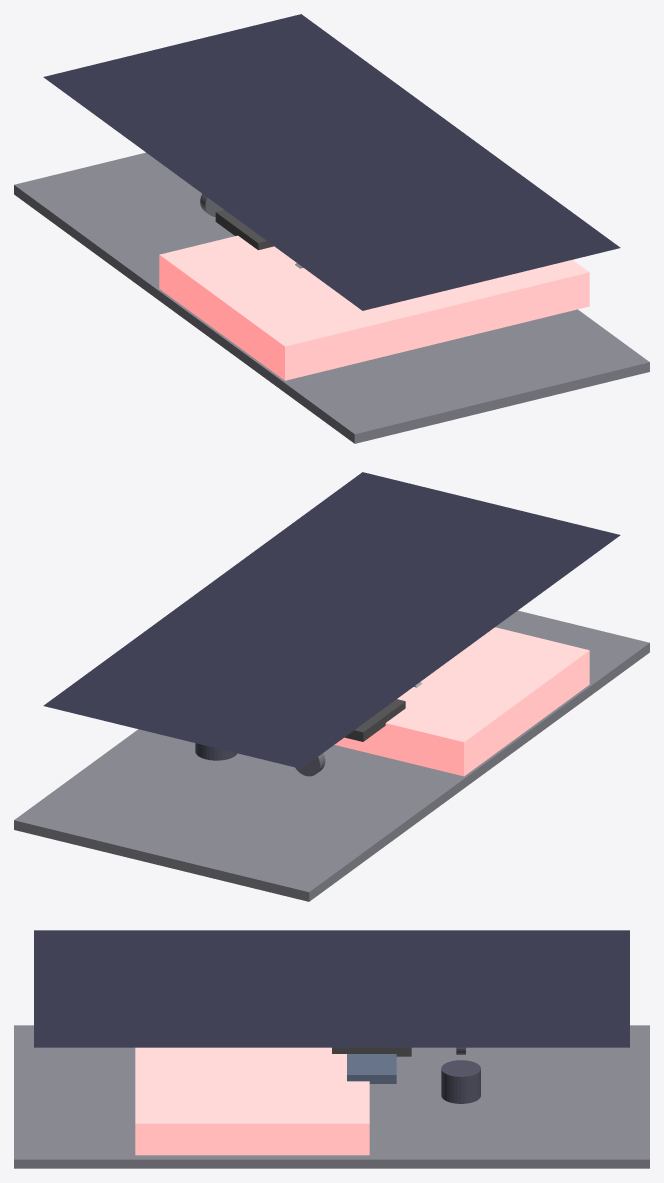
The model's file is tech_smartphone_anatomie_v1.glb.
3 views of the same model, one above another, from view 1: azimuth 30°, elevation 25°; view 2: azimuth 150°, elevation 25°; view 3: azimuth 270°, elevation 25° (orthographic). The views are drawn at different scales.
Visible parts, largest first — view 1: screen, chassis, battery__fault_defaillant, cpu; view 2: screen, chassis, battery__fault_defaillant, cpu; view 3: screen, chassis, battery__fault_defaillant, camera, pmic, cpu.
Part boxes in pixels (x1=…): screen: x1=43, y1=14, x2=620, y2=310; chassis: x1=14, y1=152, x2=649, y2=443; battery__fault_defaillant: x1=159, y1=235, x2=589, y2=380; cpu: x1=215, y1=210, x2=273, y2=250; screen: x1=43, y1=472, x2=620, y2=768; chassis: x1=14, y1=610, x2=649, y2=901; battery__fault_defaillant: x1=334, y1=627, x2=589, y2=776; cpu: x1=344, y1=699, x2=405, y2=741; screen: x1=34, y1=930, x2=629, y2=1047; chassis: x1=14, y1=1025, x2=649, y2=1168; battery__fault_defaillant: x1=135, y1=1047, x2=369, y2=1155; camera: x1=441, y1=1060, x2=480, y2=1103; pmic: x1=347, y1=1054, x2=396, y2=1083; cpu: x1=332, y1=1047, x2=411, y2=1056.
Size of the model in its own units: 3.3 by 1.28 by 6.4.
